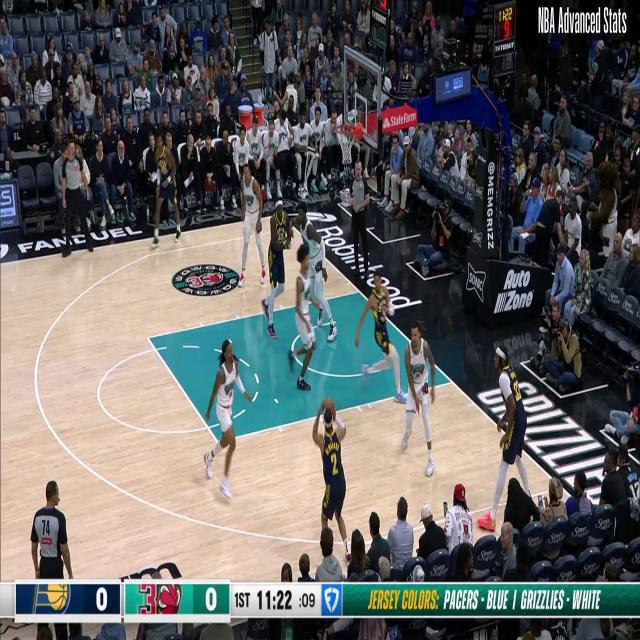ball: (321, 393, 336, 423)
judge: (31, 478, 72, 635), (62, 143, 93, 256), (345, 158, 371, 287)
player: (484, 344, 534, 518), (203, 344, 255, 495), (395, 319, 438, 475), (312, 397, 348, 552), (294, 204, 333, 336), (263, 199, 294, 342), (239, 163, 269, 300), (151, 134, 179, 248)
